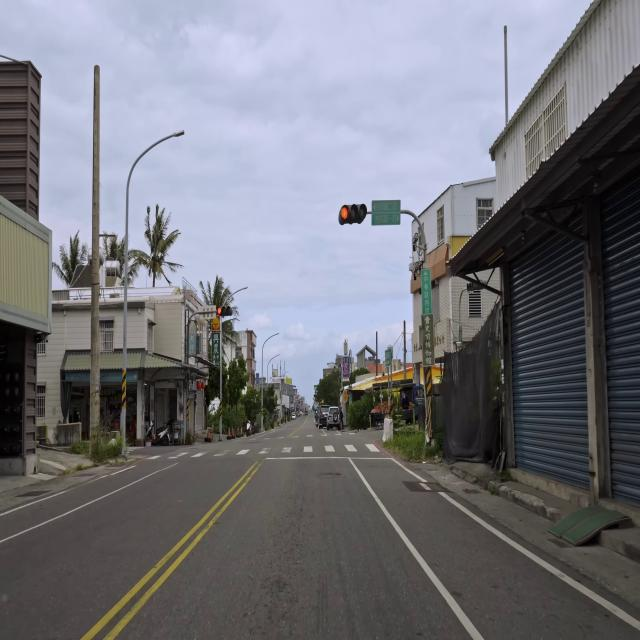red light: (338, 204, 367, 223), (217, 306, 232, 316)
